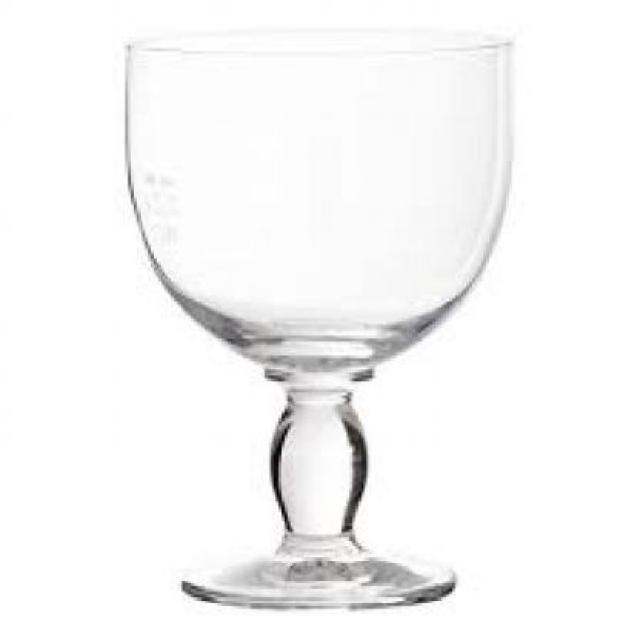kaca: (121, 31, 512, 606)
